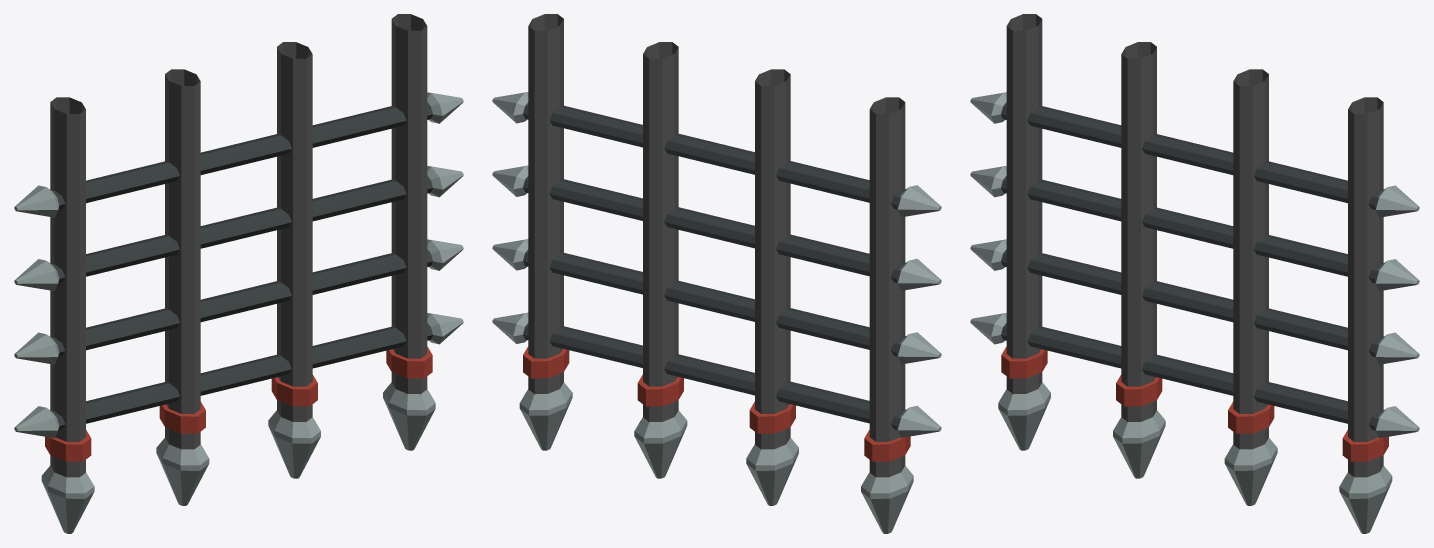
Rendered from gate.fbx.
3 views of the same model, side by side, from view 1: azimuth 30°, elevation 25°; view 2: azimuth 150°, elevation 25°; view 3: azimuth 330°, elevation 25° (orthographic).
Visible parts, largest first — view 1: Gate; view 2: Gate; view 3: Gate.
Part boxes in pixels (<box>): Gate: <box>14,14,463,533</box>; Gate: <box>492,14,941,533</box>; Gate: <box>970,14,1419,533</box>.
Size of the model in its own units: 144 by 132 by 19.05.
